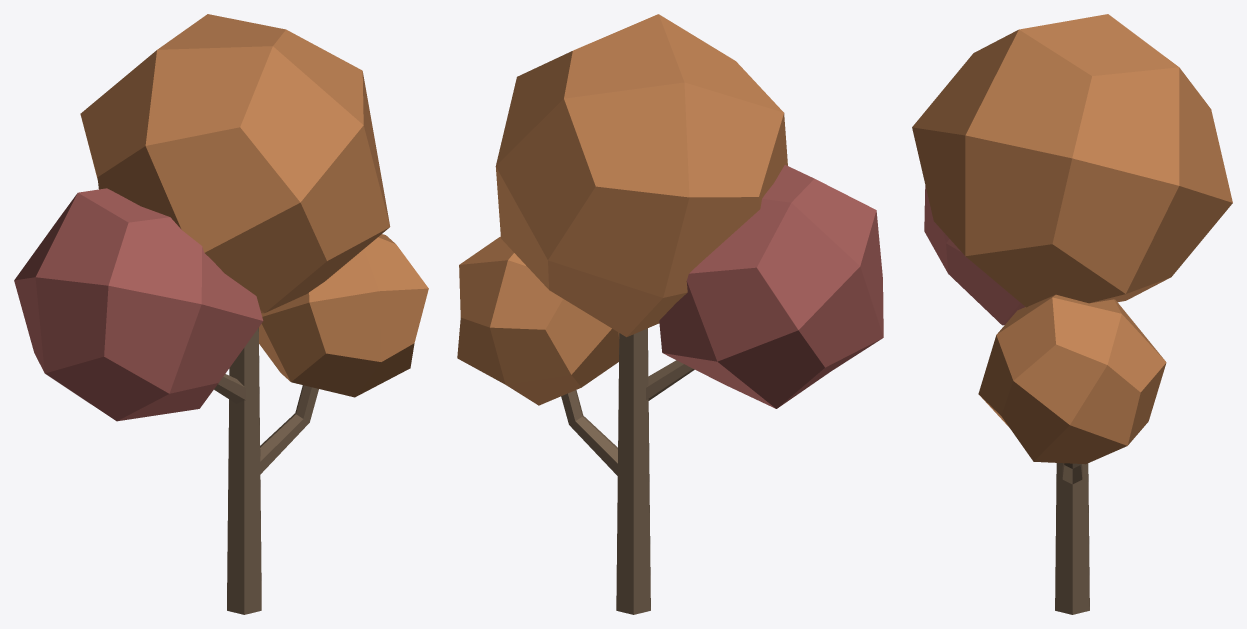
Rendered from Tree 01.fbx.
3 renders of one model, left to right at view 1: azimuth 30°, elevation 25°; view 2: azimuth 150°, elevation 25°; view 3: azimuth 270°, elevation 25°, orthographic.
Parts seen in each view (by area): view 1: pCylinder360; view 2: pCylinder360; view 3: pCylinder360.
Part boxes in pixels (<box>): pCylinder360: <box>14,14,428,614</box>; pCylinder360: <box>457,14,883,614</box>; pCylinder360: <box>912,14,1232,614</box>.
Size of the model in its own units: 9.26 by 12.86 by 6.47.
